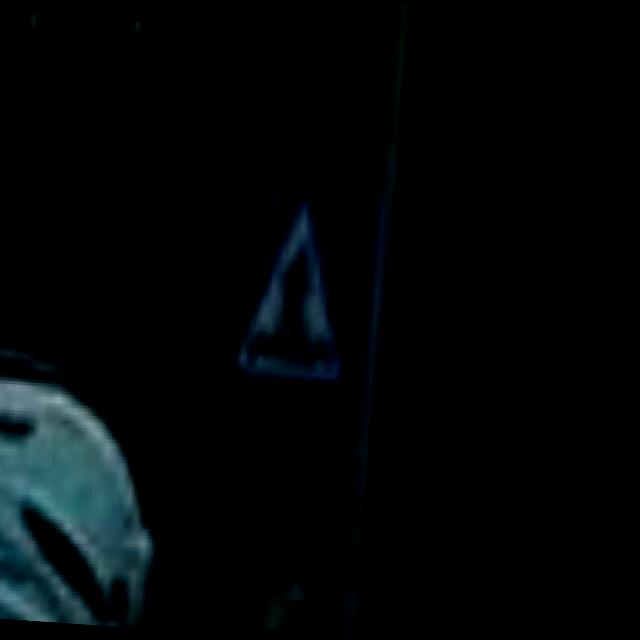Przejscie dla pieszych: (230, 172, 370, 434)
